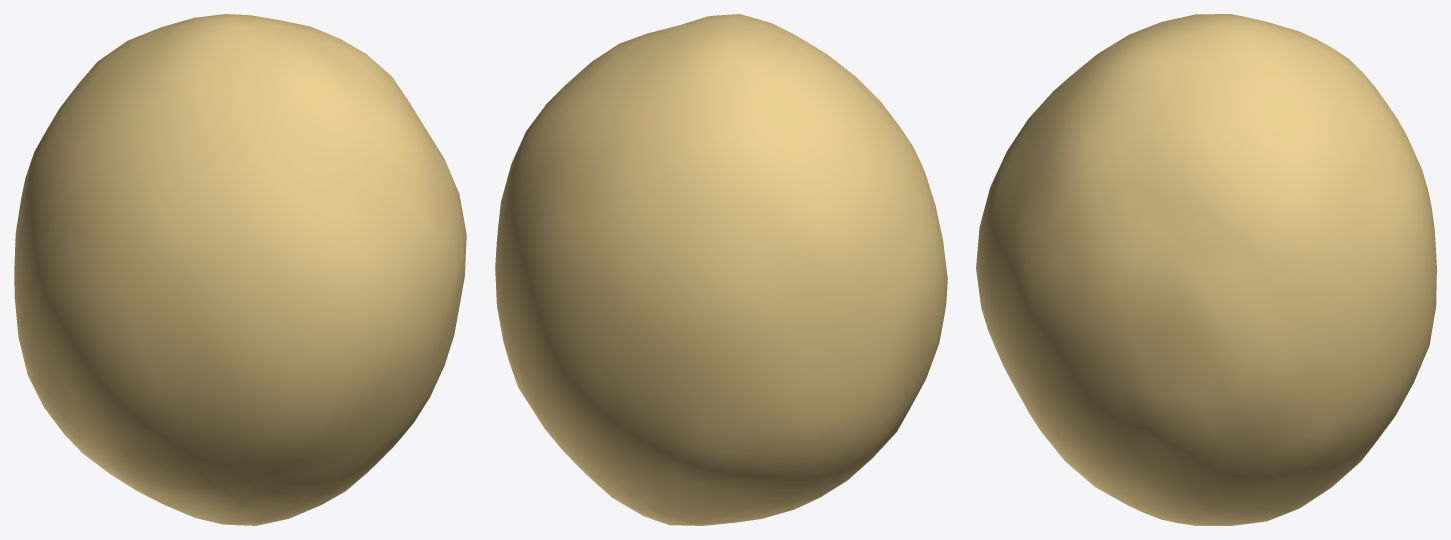
File: potato_test.fbx
The picture shows the model from 3 angles, left to right: view 1: azimuth 30°, elevation 25°; view 2: azimuth 150°, elevation 25°; view 3: azimuth 270°, elevation 25°; orthographic projection.
Visible parts, largest first — view 1: Icosphere; view 2: Icosphere; view 3: Icosphere.
Boxes of the visible parts, x1,y1,x2,y2 form: Icosphere: (14,14,466,525); Icosphere: (495,14,947,525); Icosphere: (976,14,1436,525).
Bounding box in the file's own units: 203 × 233 × 203.
